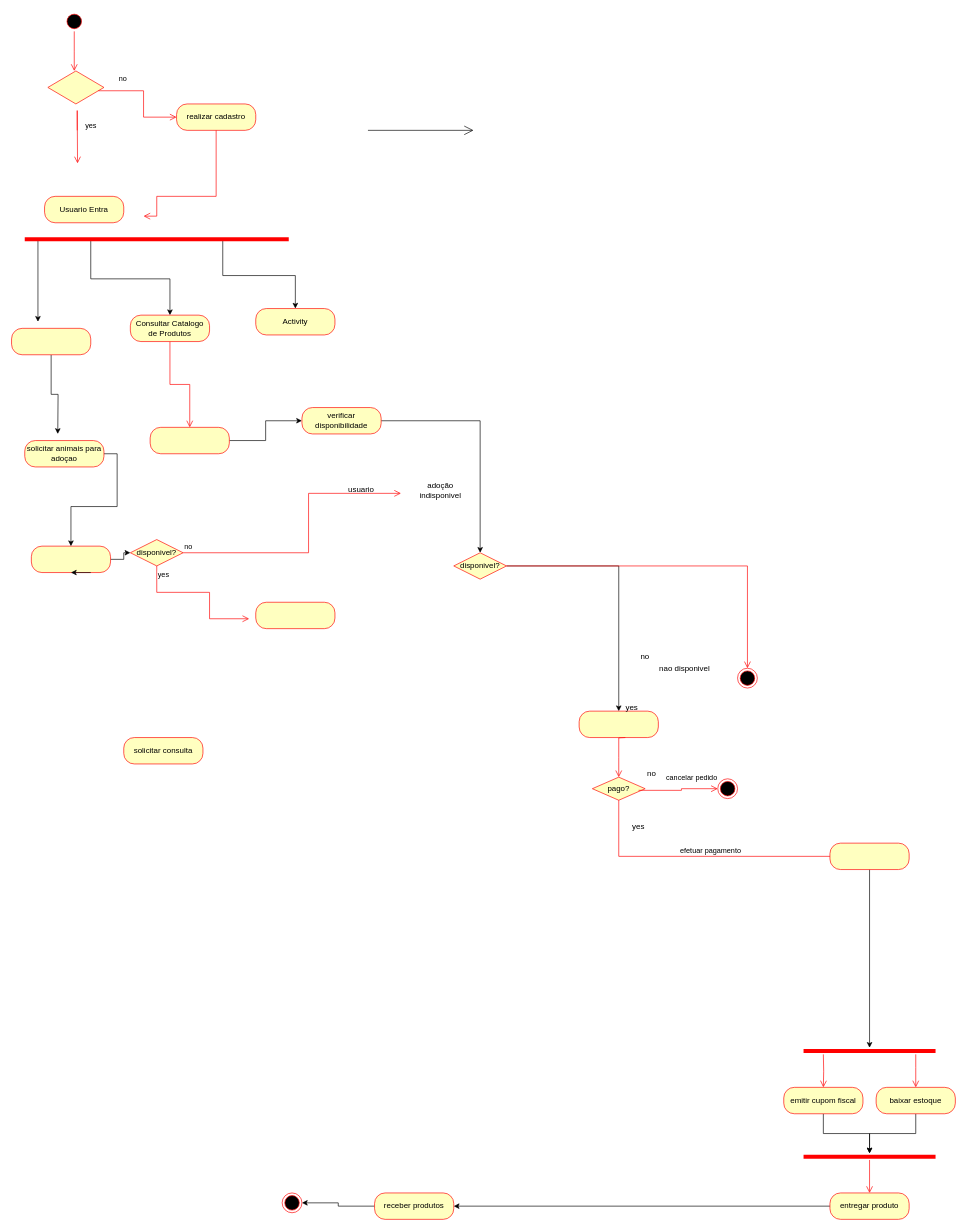
This 967x1231 diagram has some shape labels left out. The centre of each missing label's shape, as x and y in pixels:
"adicionar adoção" belongs at pixel 71 559.
"cadastrado?" belongs at pixel 75 87.
"efetuar recebimento" belongs at pixel 869 856.
"emitir pedido" belongs at pixel 618 724.
"receber adoção" belongs at pixel 295 615.
"solicitar produtor" belongs at pixel 189 440.
"Visualiza Animais Para adoção" belongs at pixel 51 341.
